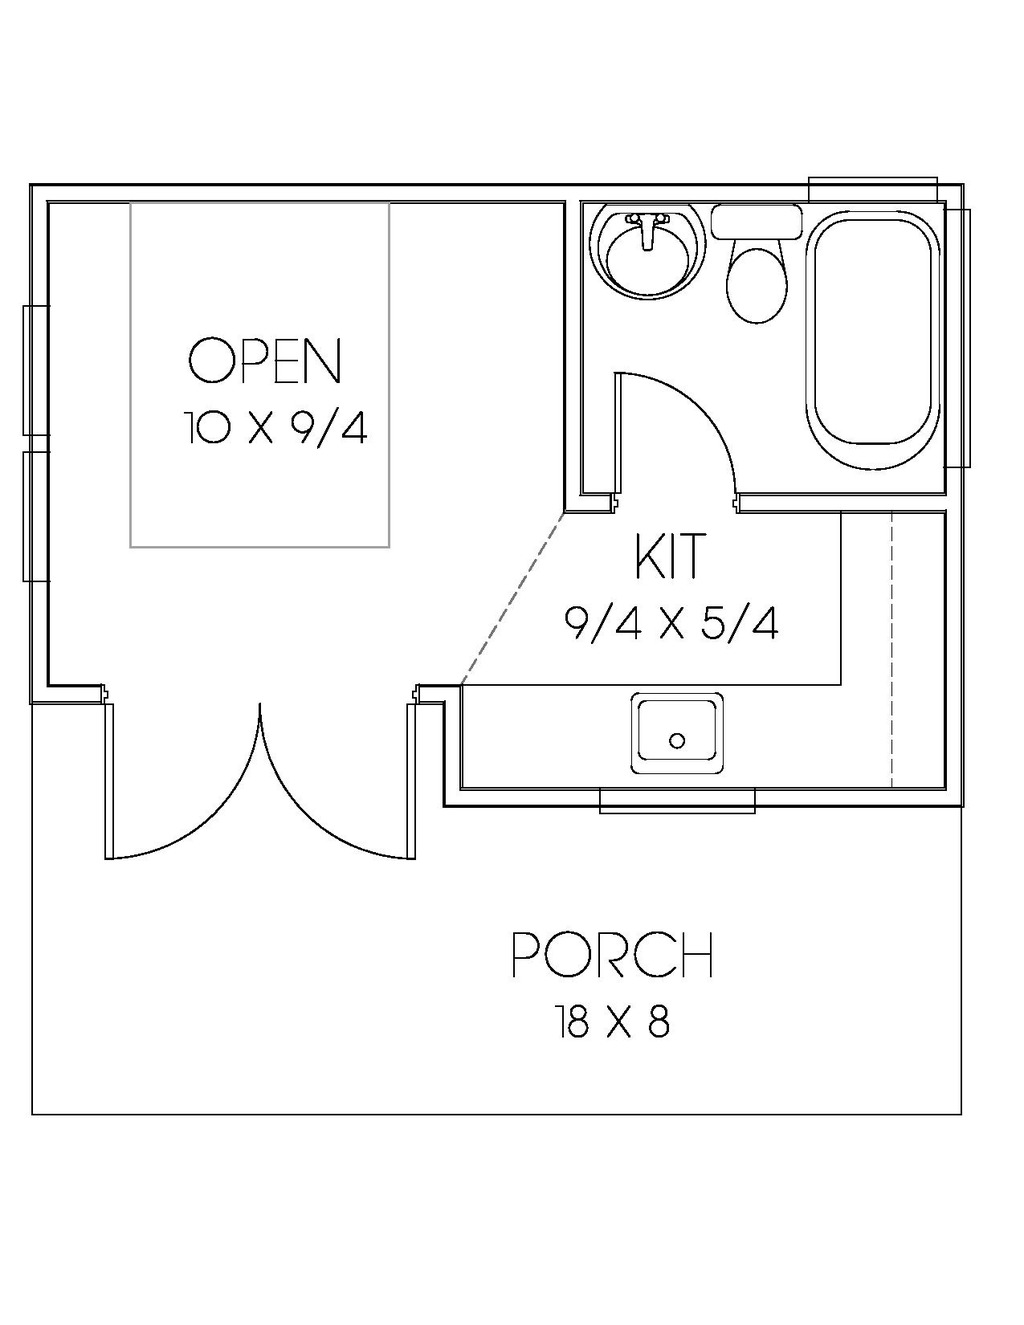door: (104, 688, 435, 880), (605, 372, 760, 519)
large_sink: (715, 204, 798, 337)
sink: (615, 686, 749, 784)
small_sink: (584, 196, 717, 313)
tub: (803, 210, 945, 482)
window: (13, 294, 65, 447), (11, 441, 55, 590)
